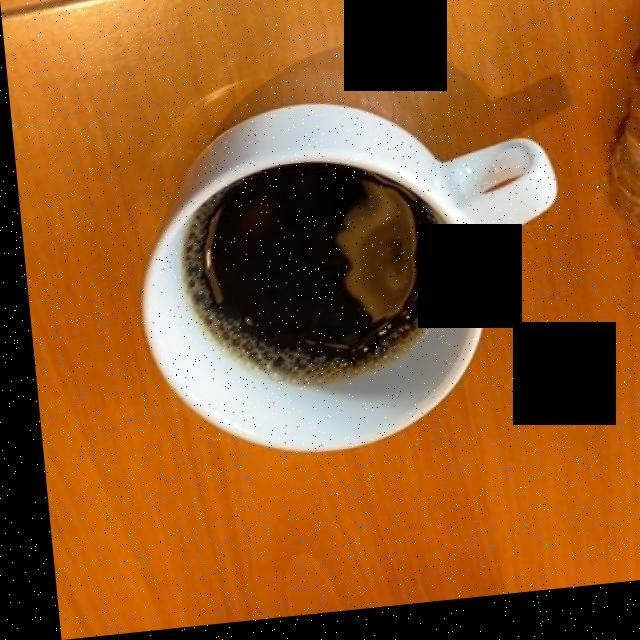coffee: (186, 175, 435, 388)
